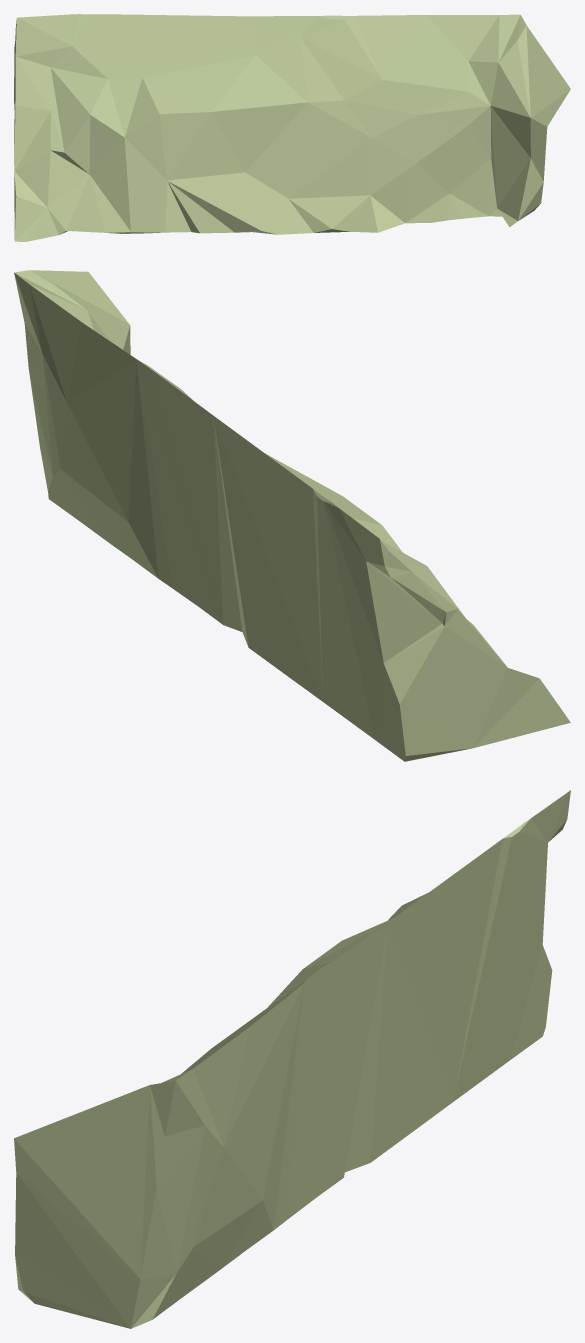
Rendered from hill_8.gltf.
3 renders of one model, top to bottom at view 1: azimuth 30°, elevation 25°; view 2: azimuth 150°, elevation 25°; view 3: azimuth 270°, elevation 25°, orthographic. The views are drawn at different scales.
Visible parts, largest first — view 1: hill; view 2: hill; view 3: hill.
Boxes of the visible parts, left/top/right/bottom form: hill: left=14, top=14, right=570, bottom=241; hill: left=14, top=270, right=570, bottom=761; hill: left=14, top=790, right=570, bottom=1328.
Bounding box in the file's own units: 7.61 × 2.66 × 5.18.
